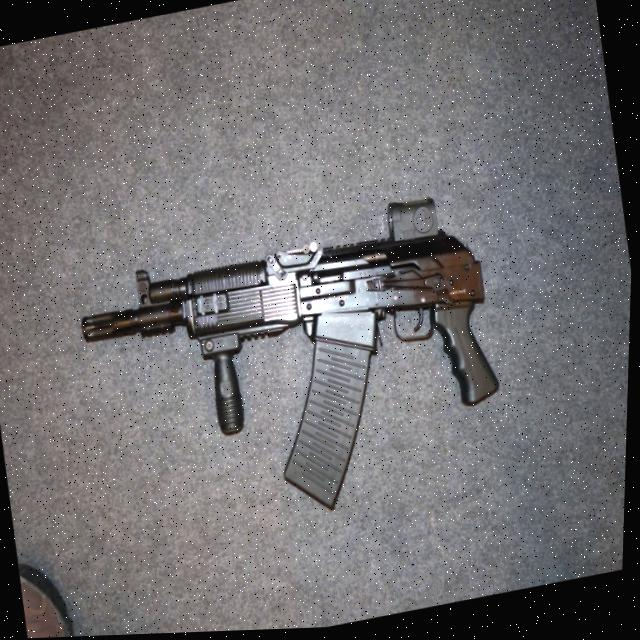firearm: (66, 186, 521, 551)
